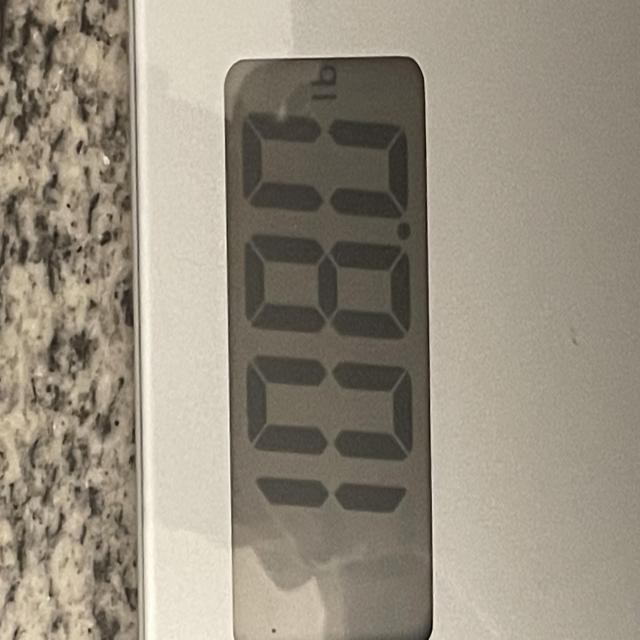ws: (83, 0, 640, 640)
